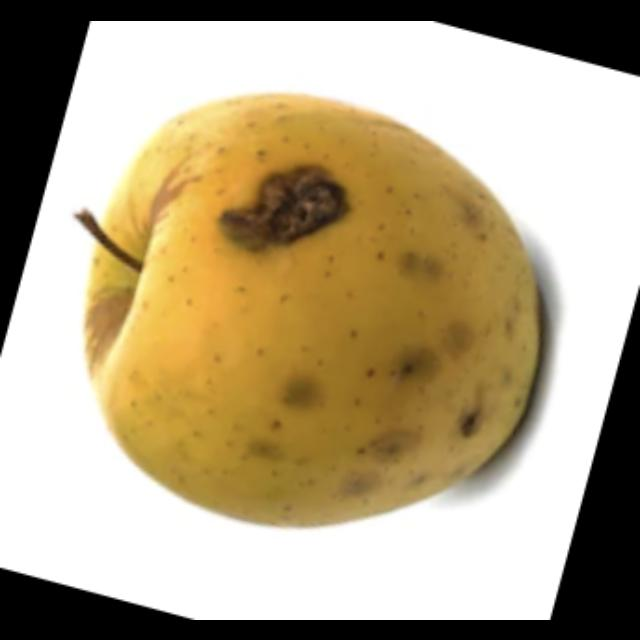Apel Tidak Segar: (25, 54, 640, 586)
